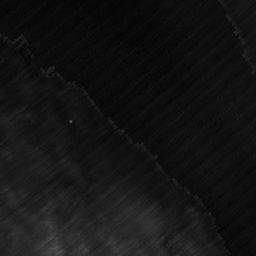Target: (68, 118, 74, 124)
